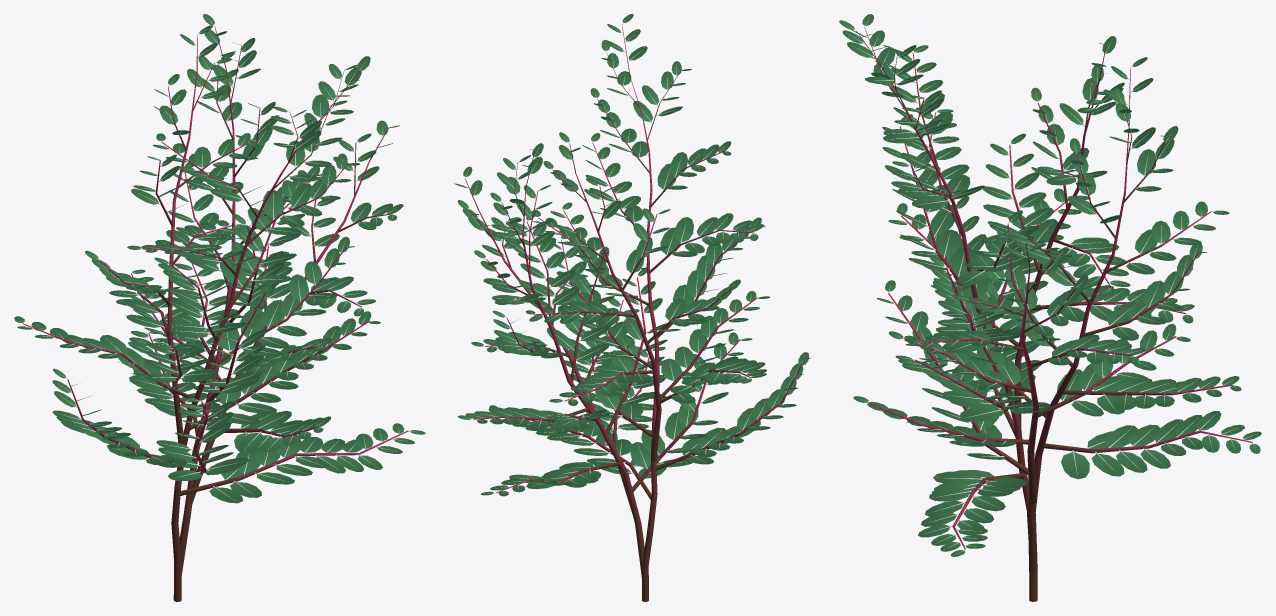
Rendered from snow-bush.gltf.
The picture shows the model from 3 angles, left to right: view 1: azimuth 30°, elevation 25°; view 2: azimuth 150°, elevation 25°; view 3: azimuth 270°, elevation 25°; orthographic projection. The views are drawn at different scales.
Size of the model in its own units: 3.24 by 4.82 by 2.91.
518 materials, 518 textured.
